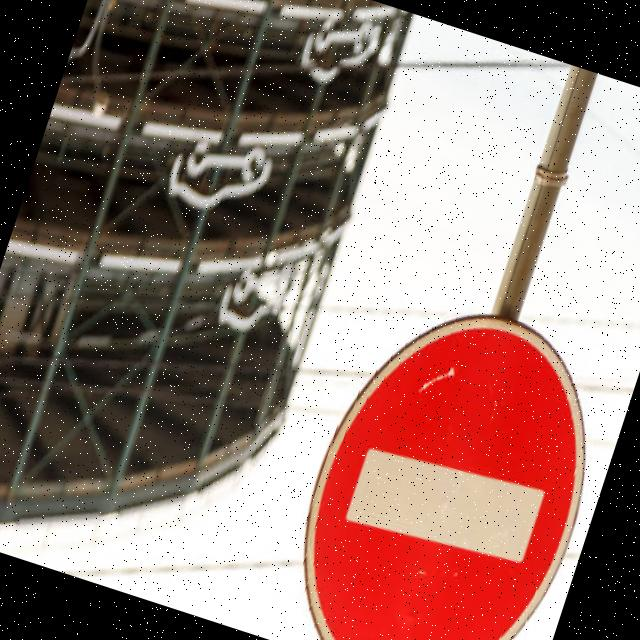do_not_enter: (263, 278, 636, 640)
